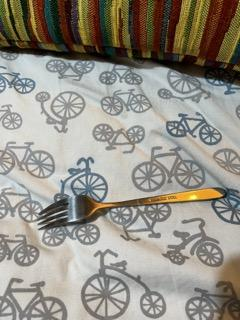fork: (36, 185, 229, 231)
